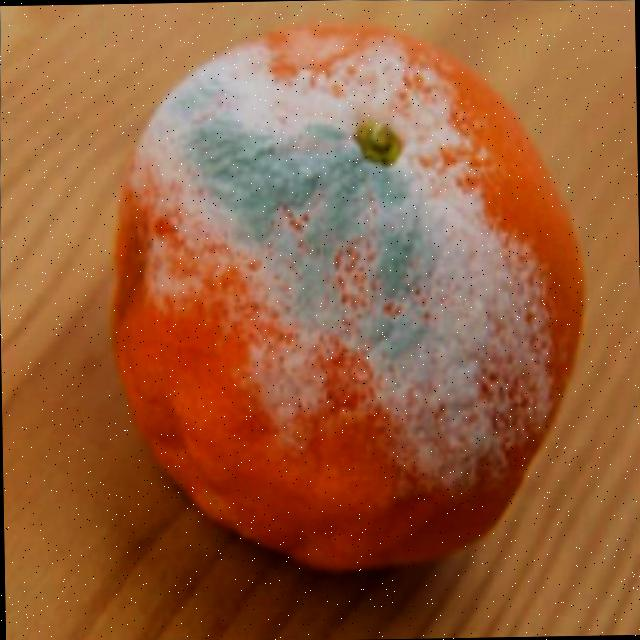rotten orange: (103, 16, 591, 578)
